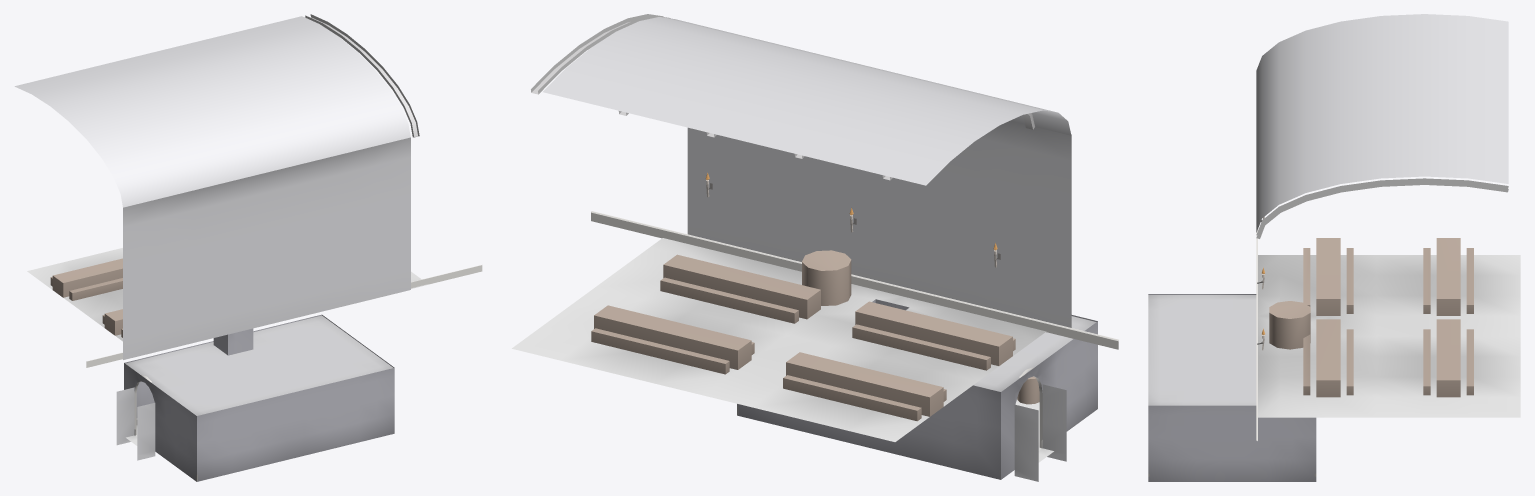
The model's file is crypt_08_bg.glb.
3 renders of one model, left to right at view 1: azimuth 30°, elevation 25°; view 2: azimuth 150°, elevation 25°; view 3: azimuth 270°, elevation 25°, orthographic. The views are drawn at different scales.
Visible parts, largest first — view 1: crypt_08_bg; view 2: crypt_08_bg; view 3: crypt_08_bg.
Boxes of the visible parts, x1,y1,x2,y2 form: crypt_08_bg: (14, 14, 482, 481); crypt_08_bg: (512, 14, 1118, 481); crypt_08_bg: (1148, 14, 1520, 481).
Size of the model in its own units: 22 by 15.9 by 15.5.
